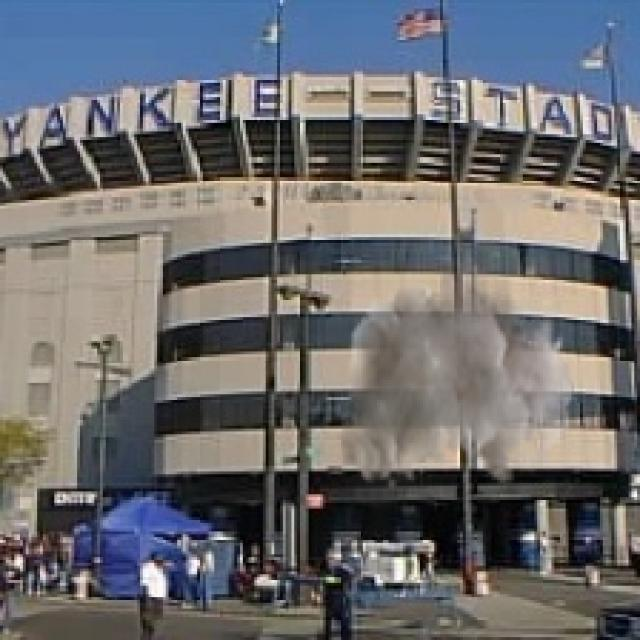Smoke: (337, 254, 574, 492)
